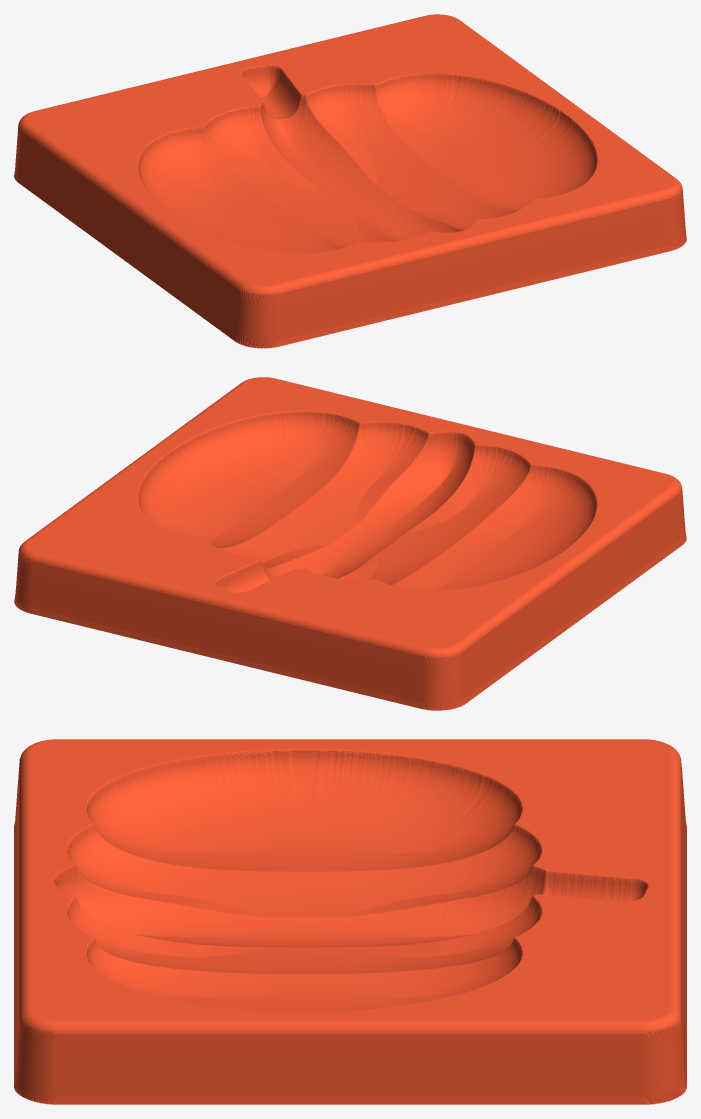
The model's file is mold.glb.
The picture shows the model from 3 angles, top to bottom: view 1: azimuth 30°, elevation 25°; view 2: azimuth 150°, elevation 25°; view 3: azimuth 270°, elevation 25°; orthographic projection. The views are drawn at different scales.
Parts seen in each view (by area): view 1: geometry_0; view 2: geometry_0; view 3: geometry_0.
Boxes of the visible parts, x1,y1,x2,y2 form: geometry_0: (14,14,686,348); geometry_0: (14,377,686,710); geometry_0: (14,739,686,1104).
Bounding box in the file's own units: 0.1435 × 0.0175 × 0.1385.
